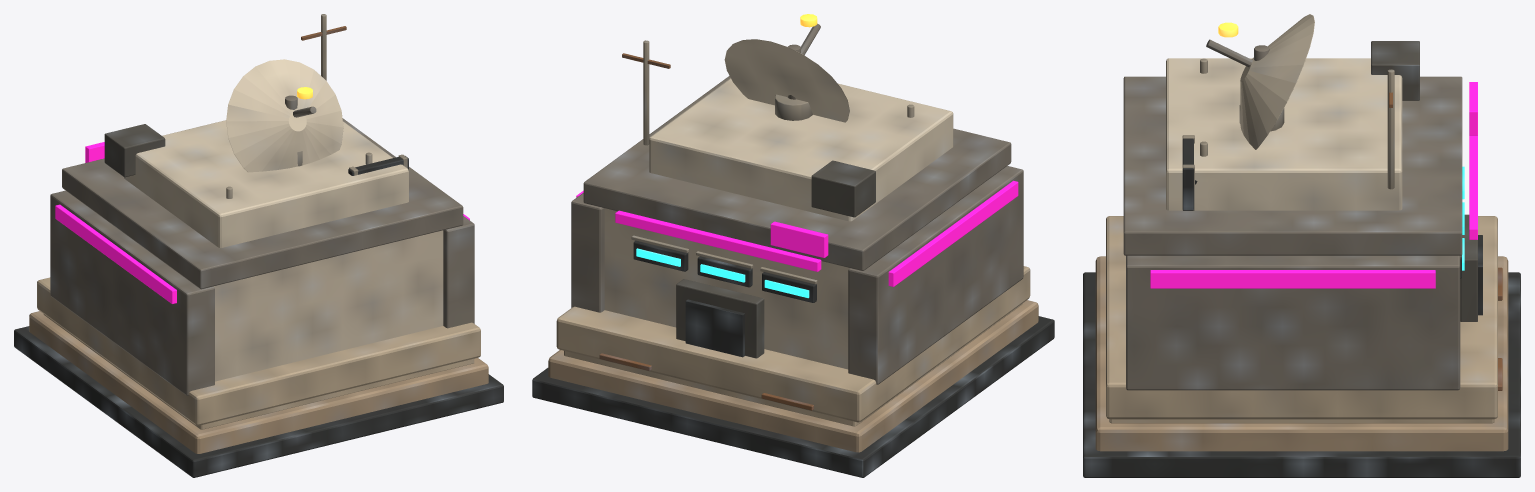
Rendered from outpost.glb.
3 renders of one model, left to right at view 1: azimuth 30°, elevation 25°; view 2: azimuth 150°, elevation 25°; view 3: azimuth 270°, elevation 25°, orthographic. The views are drawn at different scales.
Parts seen in each view (by area): view 1: Sandwar3D; view 2: Sandwar3D; view 3: Sandwar3D.
Part boxes in pixels (left/top/right/bottom): Sandwar3D: left=14, top=14, right=503, bottom=477; Sandwar3D: left=532, top=14, right=1054, bottom=477; Sandwar3D: left=1083, top=14, right=1520, bottom=477.
Bounding box in the file's own units: 1.97 × 1.86 × 1.97.
12 materials, 11 textured.
